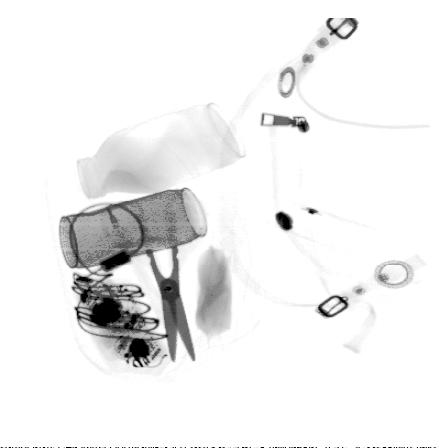Scissors: (109, 187, 202, 364)
